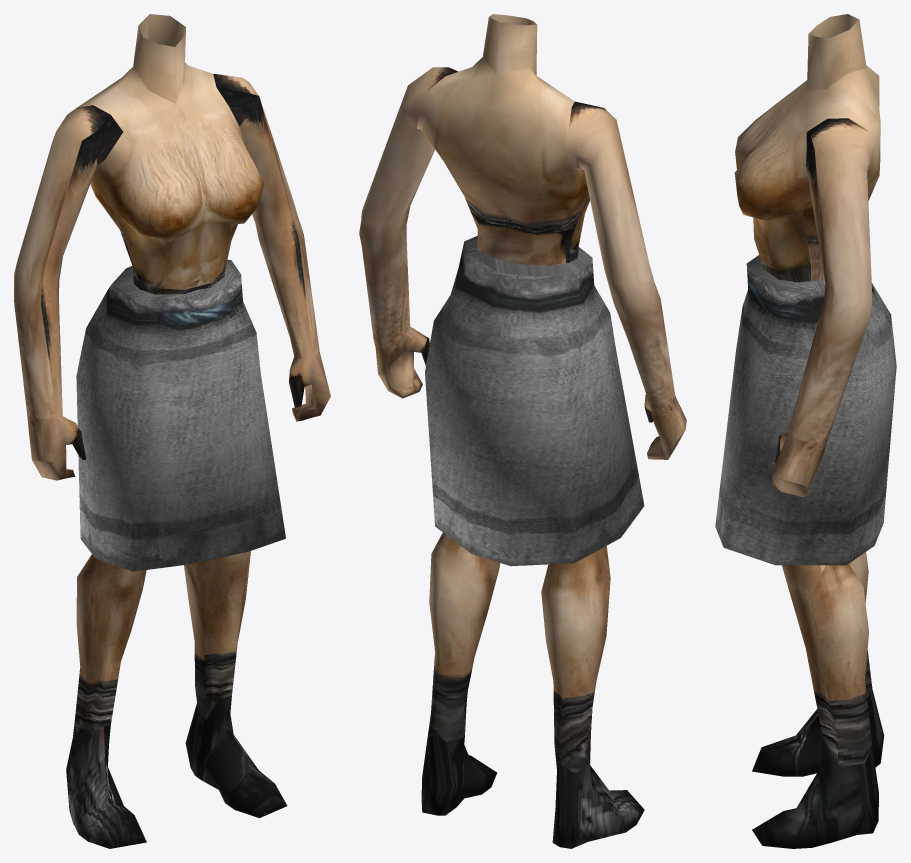
The model's file is GS_BABE_BATH_01.glb.
The picture shows the model from 3 angles, left to right: view 1: azimuth 30°, elevation 25°; view 2: azimuth 150°, elevation 25°; view 3: azimuth 270°, elevation 25°; orthographic projection. The views are drawn at different scales.
Parts seen in each view (by area): view 1: GS_BABE_BATH_01; view 2: GS_BABE_BATH_01; view 3: GS_BABE_BATH_01.
Part boxes in pixels (x1=…): GS_BABE_BATH_01: x1=14, y1=14, x2=330, y2=848; GS_BABE_BATH_01: x1=359, y1=14, x2=686, y2=848; GS_BABE_BATH_01: x1=715, y1=14, x2=896, y2=848.
Size of the model in its own units: 0.6425 by 1.67 by 0.3496.
Materials: 2 (2 with a texture image).
